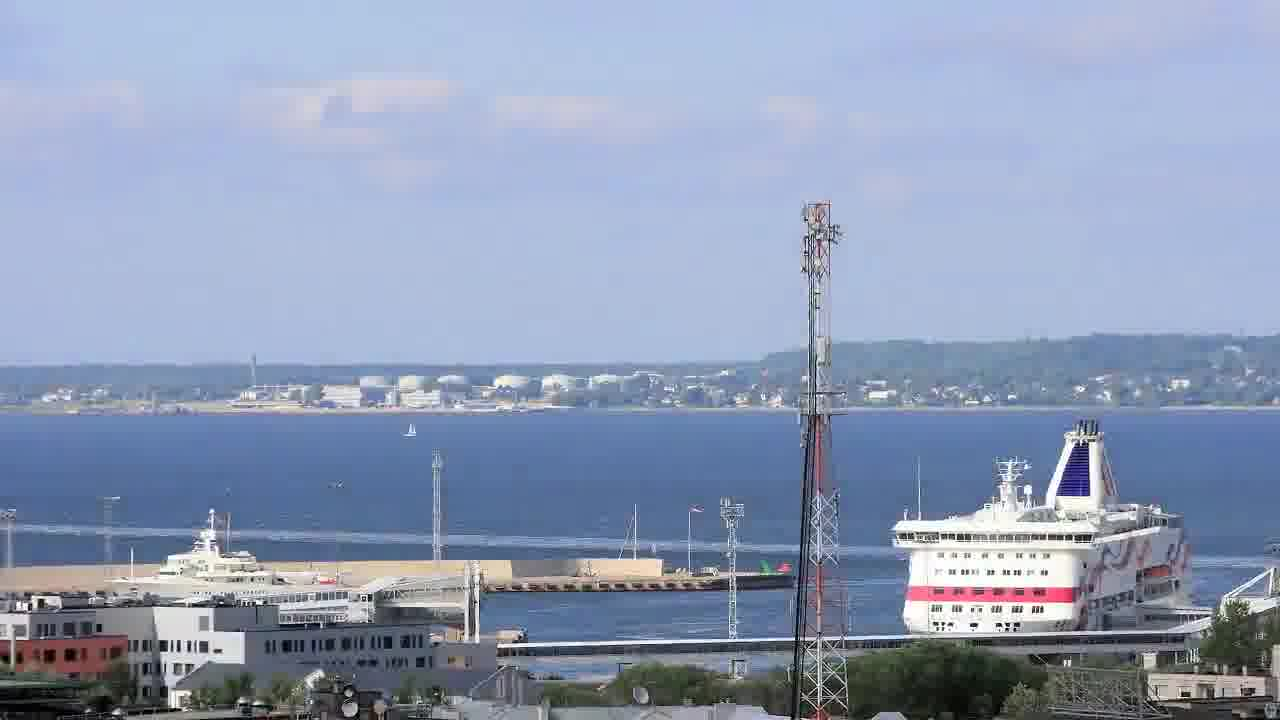type-2: (394, 410, 430, 457)
type-3: (868, 415, 1225, 638), (84, 511, 353, 609)
